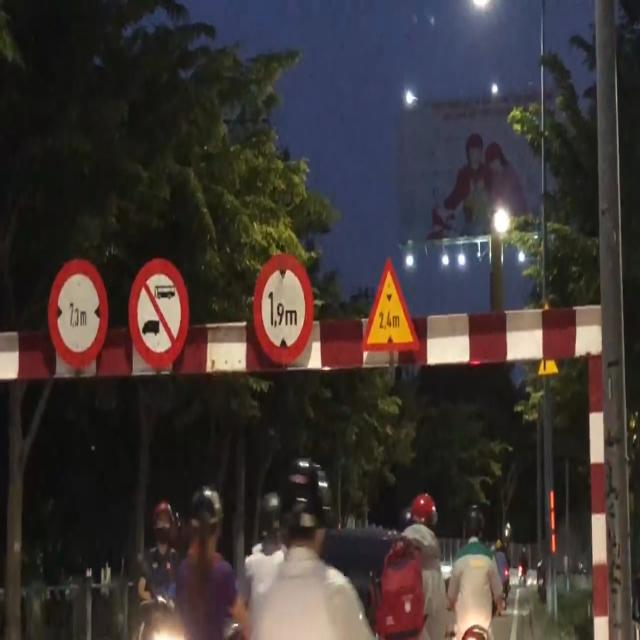Bien bao cam xe oto khach va xe oto tai: (128, 250, 190, 371)
Bien bao chieu cao tinh khong thuc te: (359, 254, 430, 364)
Bien bao han che chieu cao: (250, 241, 317, 371)
